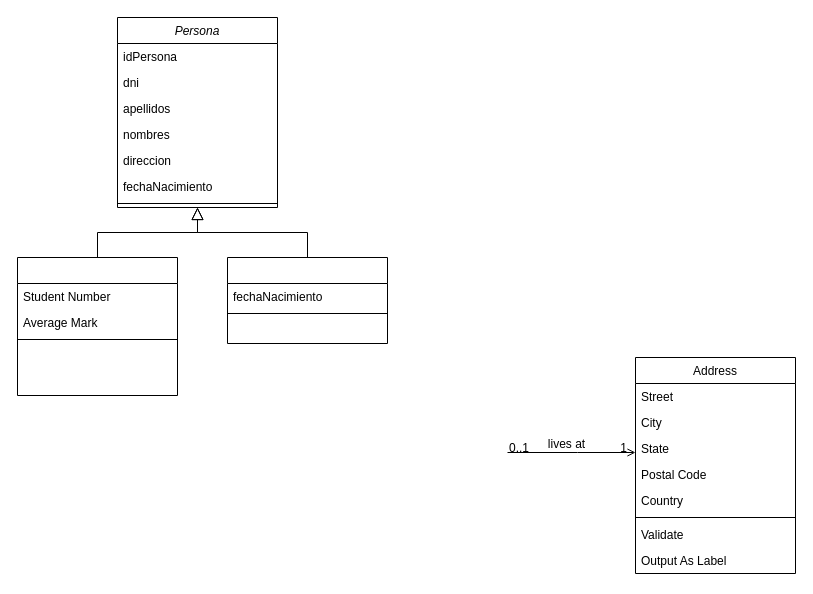
The diagram is 813 pixels wide and 594 high, and some of its shapes have lost their labels. Each missing label, with the box of its shape:
Cliente: (226, 256, 388, 344)
Empleado: (16, 256, 178, 396)
